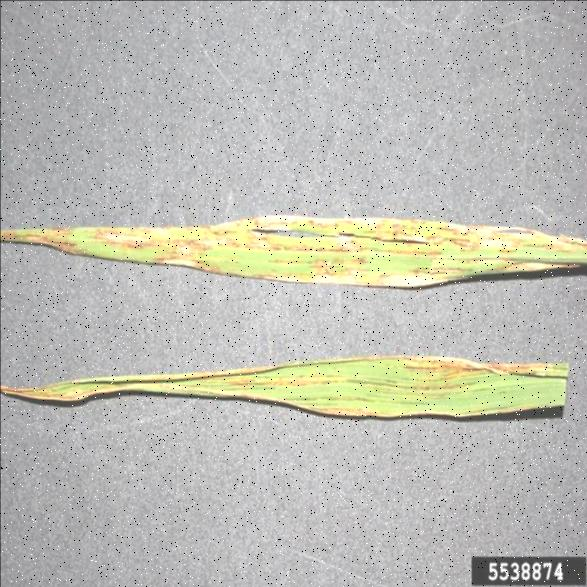Bacteria_Leaf_Blight: (37, 202, 578, 286), (54, 338, 558, 390)
